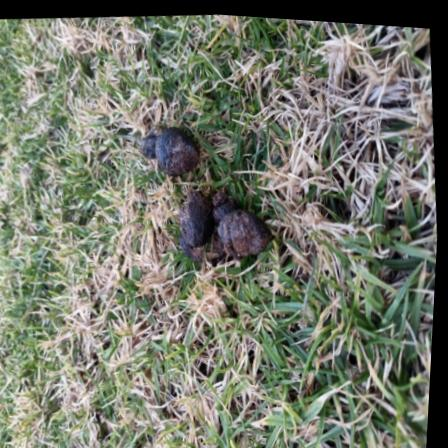dog-poop: (174, 179, 276, 278), (128, 113, 205, 184)
